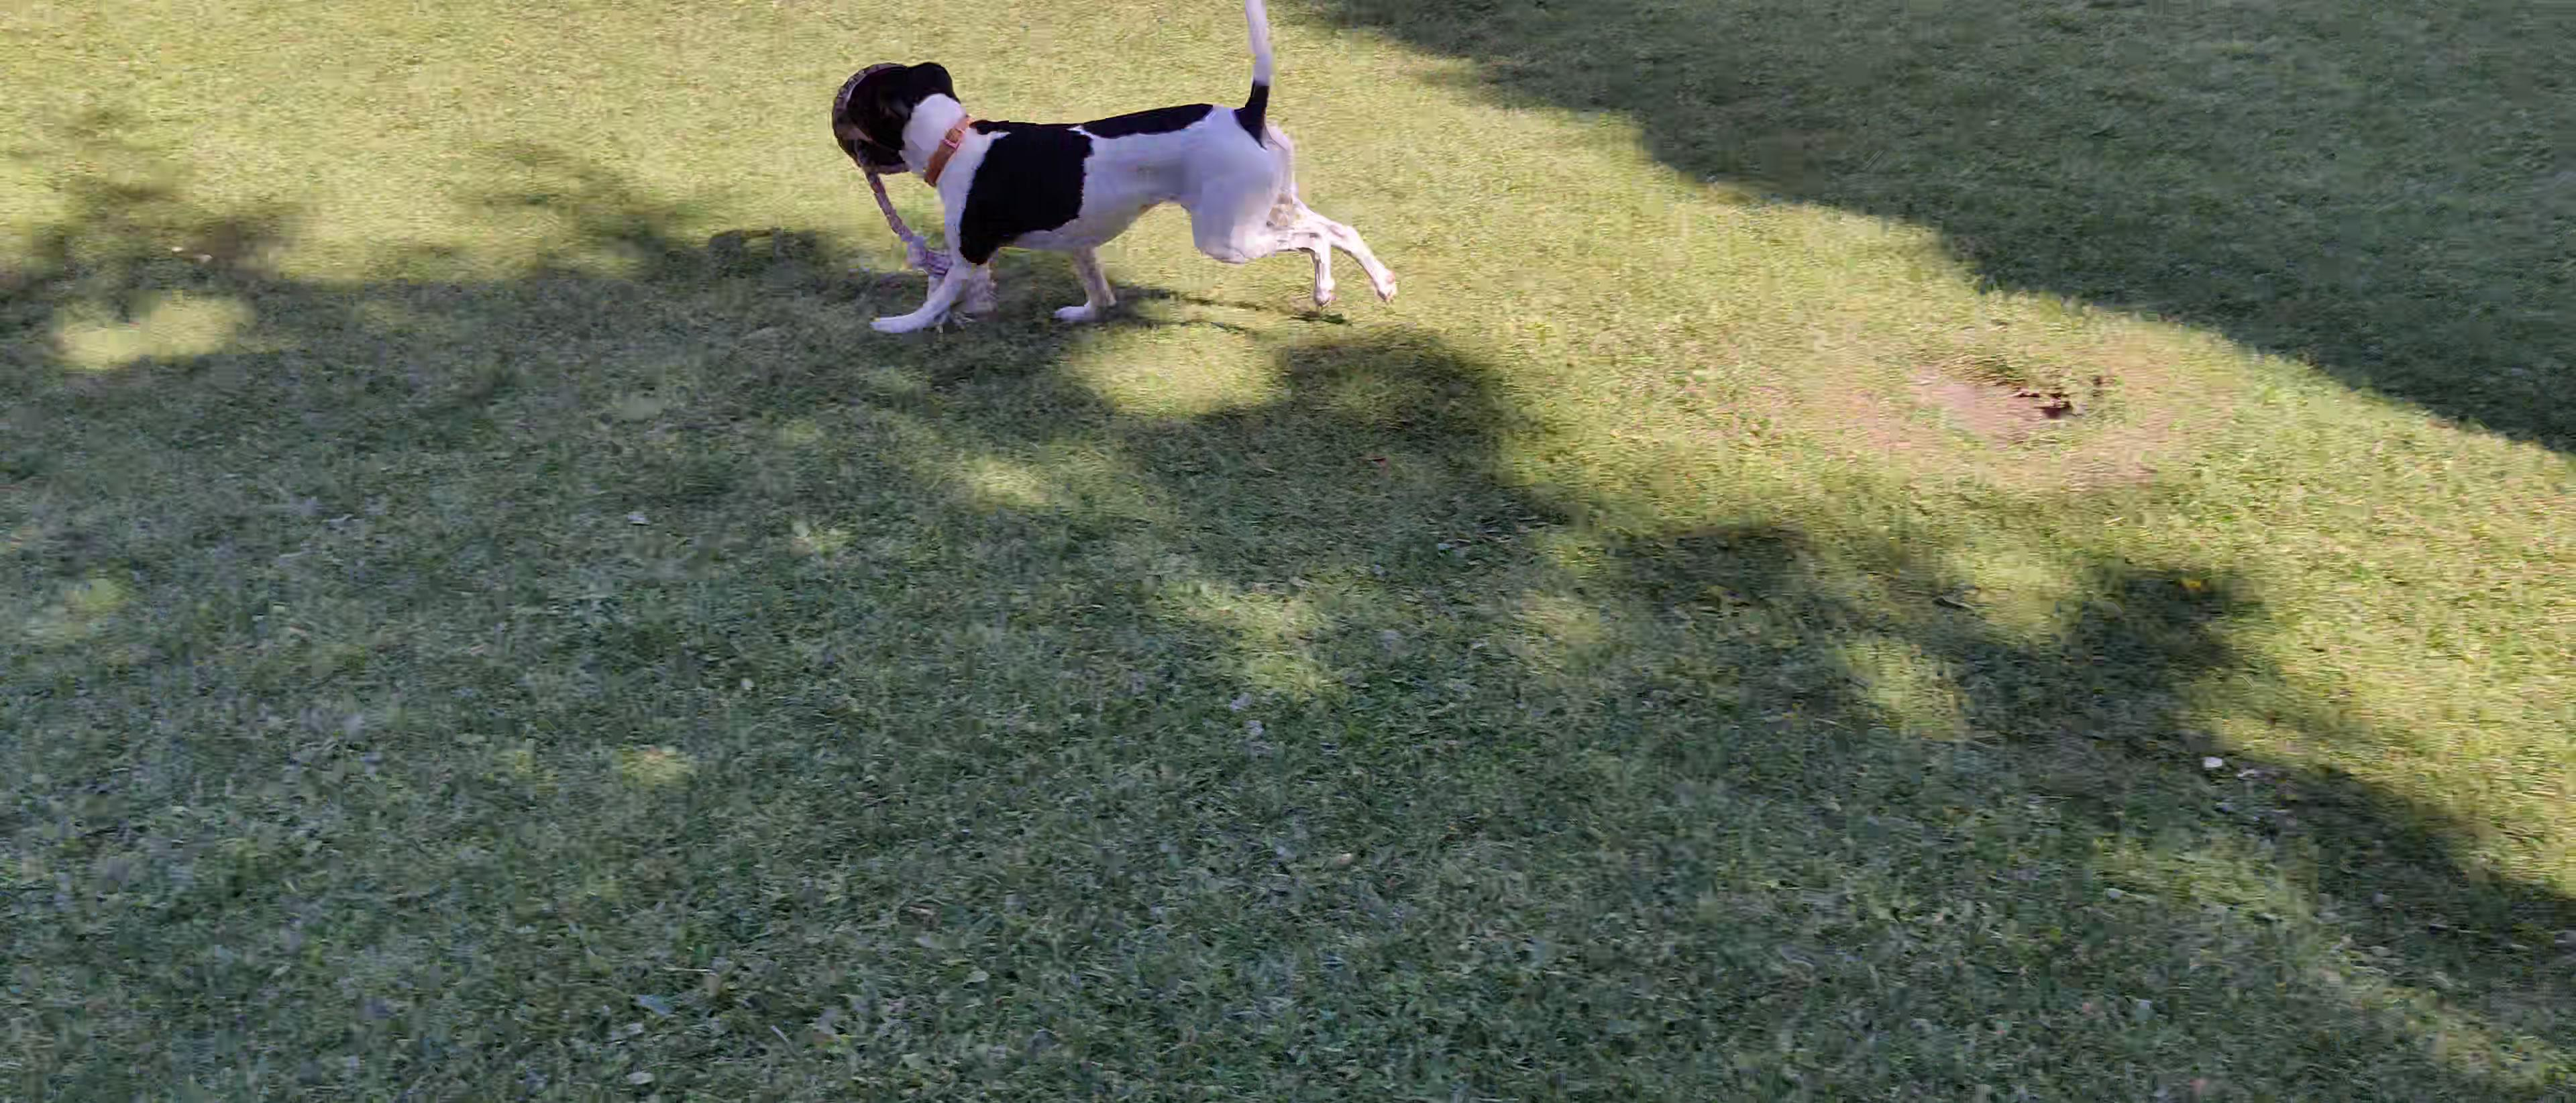Dog: (830, 3, 1401, 332)
